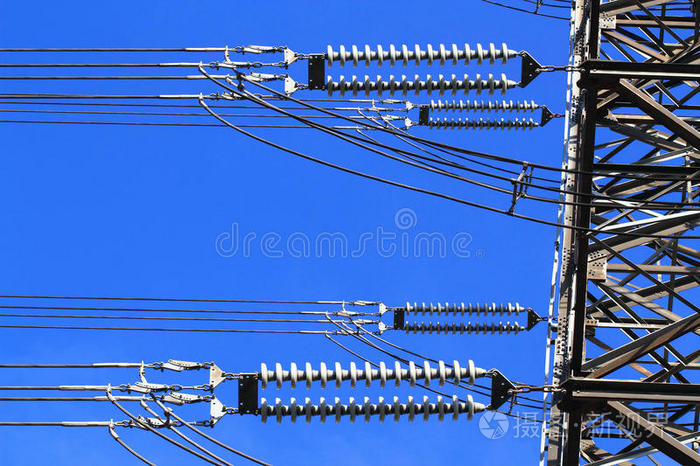insulator: (256, 395, 479, 426), (259, 360, 480, 390), (324, 71, 509, 99), (325, 41, 513, 68), (405, 299, 524, 316), (404, 320, 522, 337), (423, 115, 538, 132), (428, 99, 541, 111)
